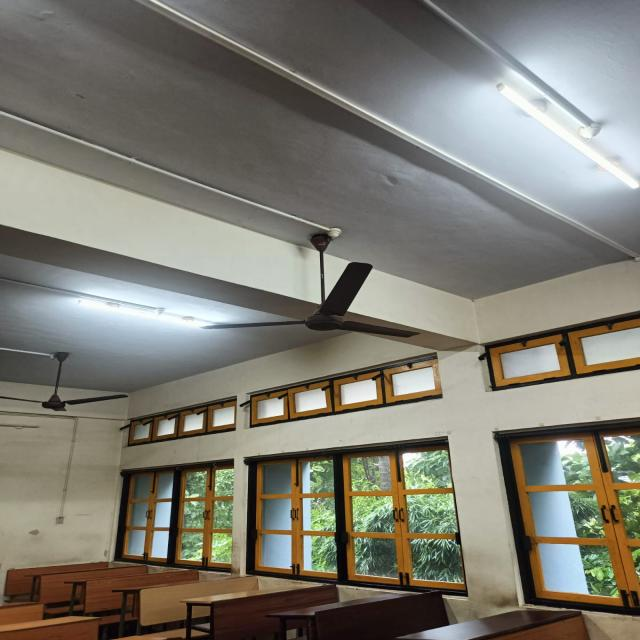fan_off: (201, 261, 419, 339)
